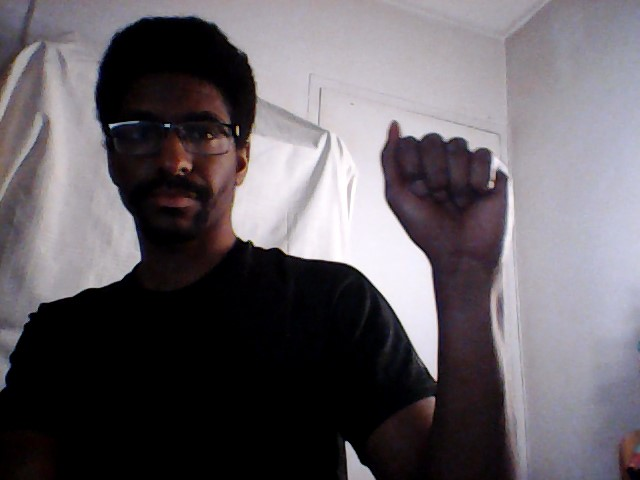a: (379, 113, 518, 275)
